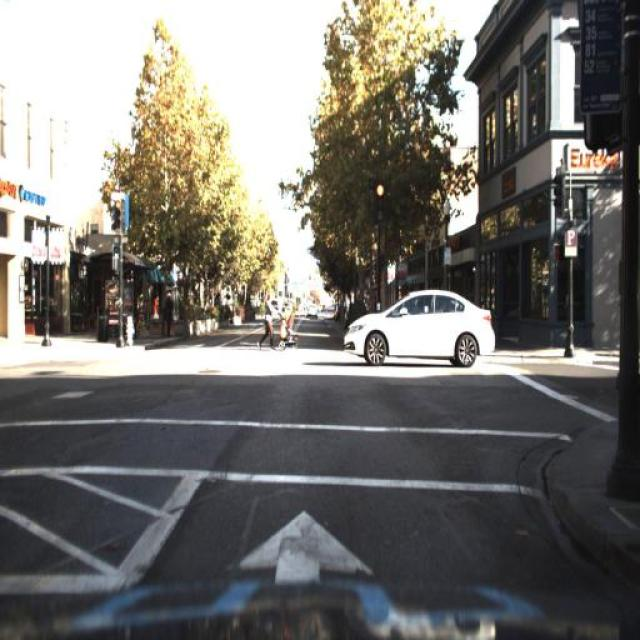car: (329, 280, 519, 380)
trafficLight: (258, 284, 294, 350), (160, 290, 176, 338)
trafficLight-RedLeft: (106, 187, 129, 236), (370, 182, 386, 222), (113, 196, 125, 235)
